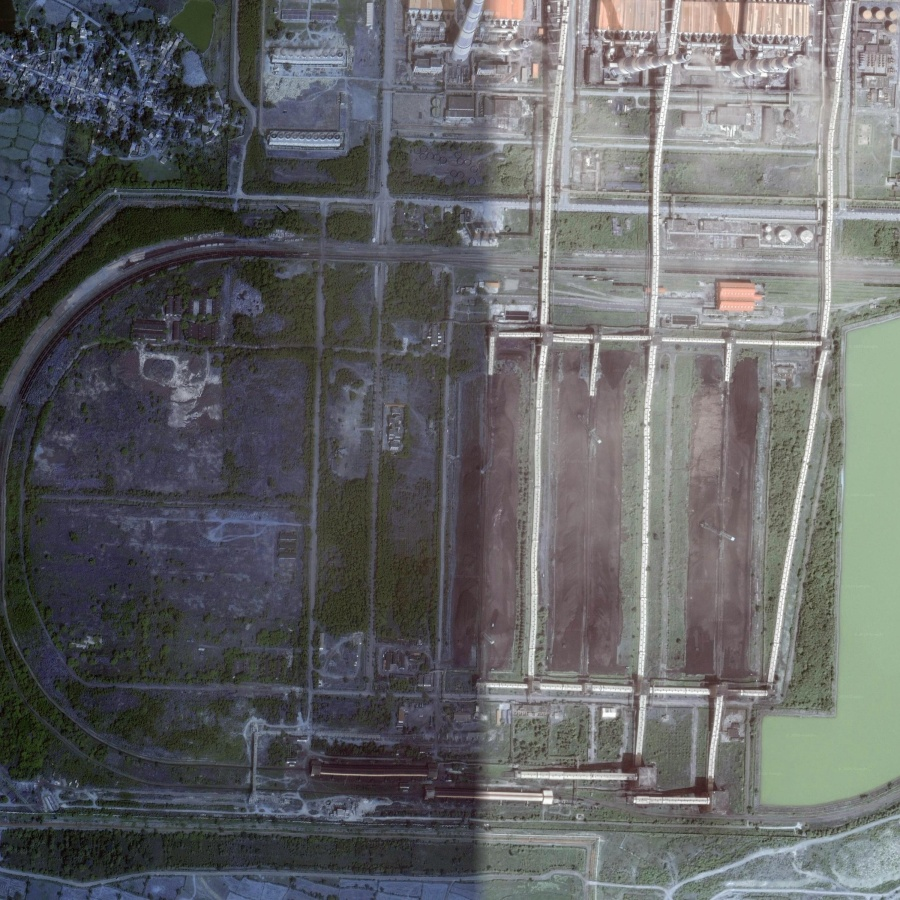PowerPlant: (442, 314, 801, 709)
